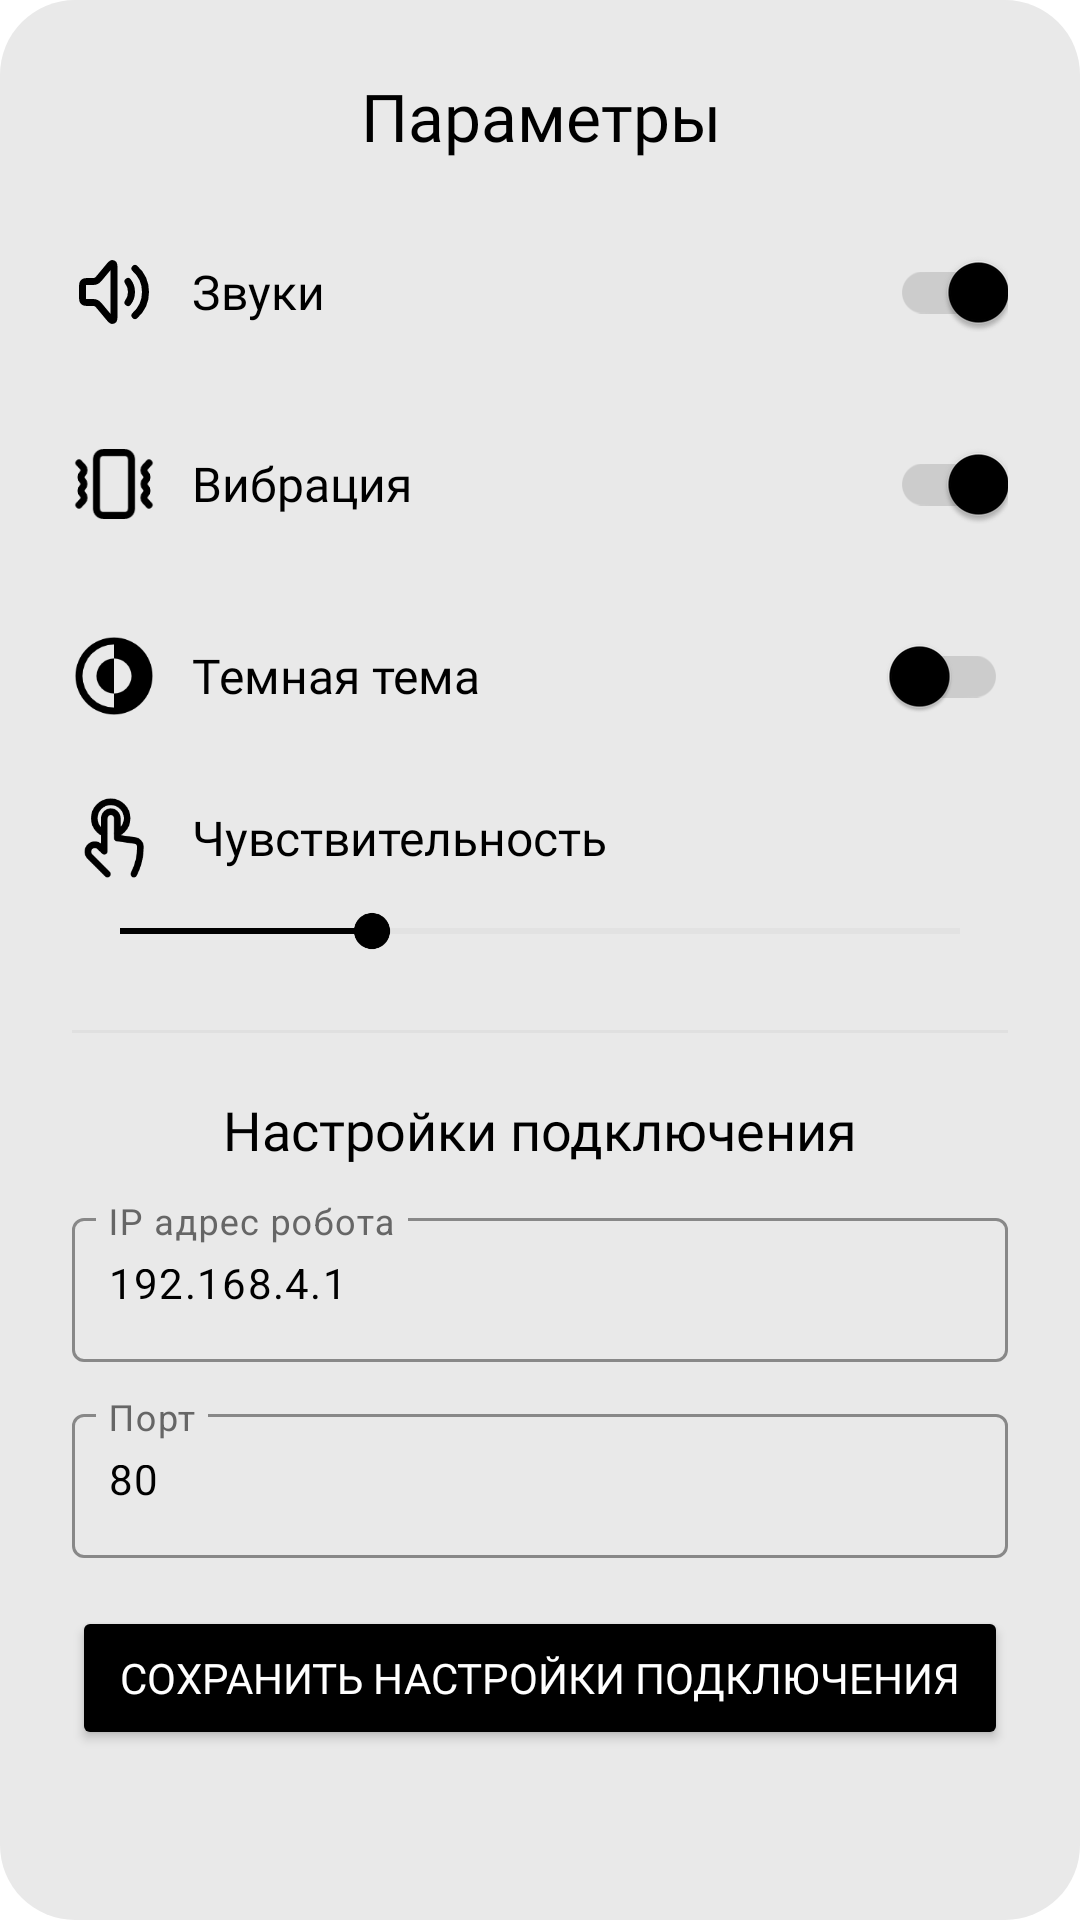

Point at icon controls on the screen. Image size 1080x1920, points as (x,y).
sensitivity: (114,838)
theme: (114,676)
vibration: (114,484)
volume: (114,292)
